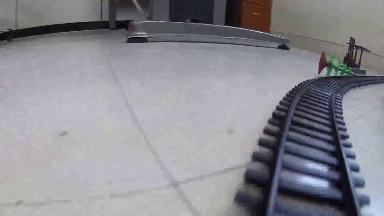tree: (314, 50, 360, 86)
